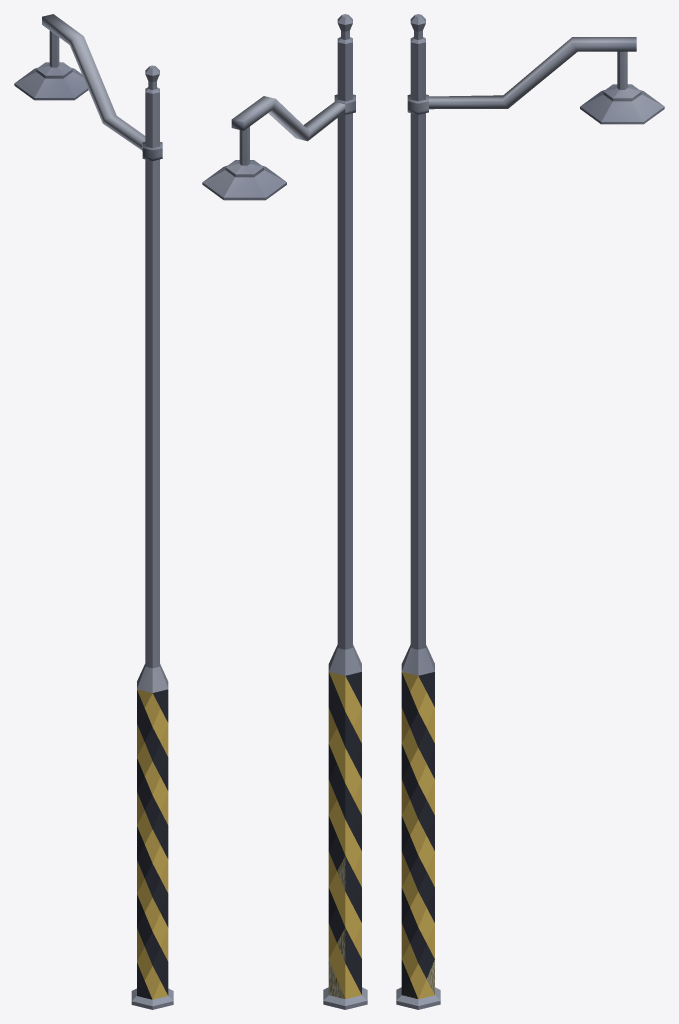
The model's file is squidgame_light_streetlamp1.fbx.
3 renders of one model, left to right at view 1: azimuth 30°, elevation 25°; view 2: azimuth 150°, elevation 25°; view 3: azimuth 270°, elevation 25°, orthographic. The views are drawn at different scales.
Visible parts, largest first — view 1: squidgame_light_streetlamp1; view 2: squidgame_light_streetlamp1; view 3: squidgame_light_streetlamp1.
Boxes of the visible parts, x1,y1,x2,y2 form: squidgame_light_streetlamp1: [14, 14, 173, 1009]; squidgame_light_streetlamp1: [202, 14, 367, 1009]; squidgame_light_streetlamp1: [396, 14, 664, 1009].
Size of the model in its own units: 0.1652 by 2.45 by 0.6051.
